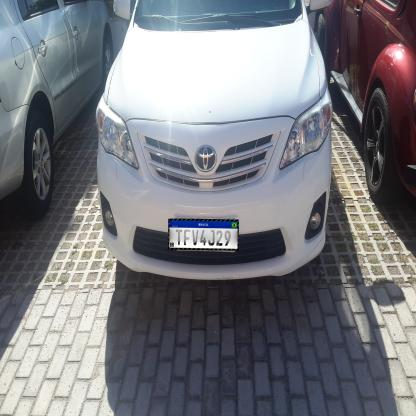PlacaM: (168, 219, 239, 250)
